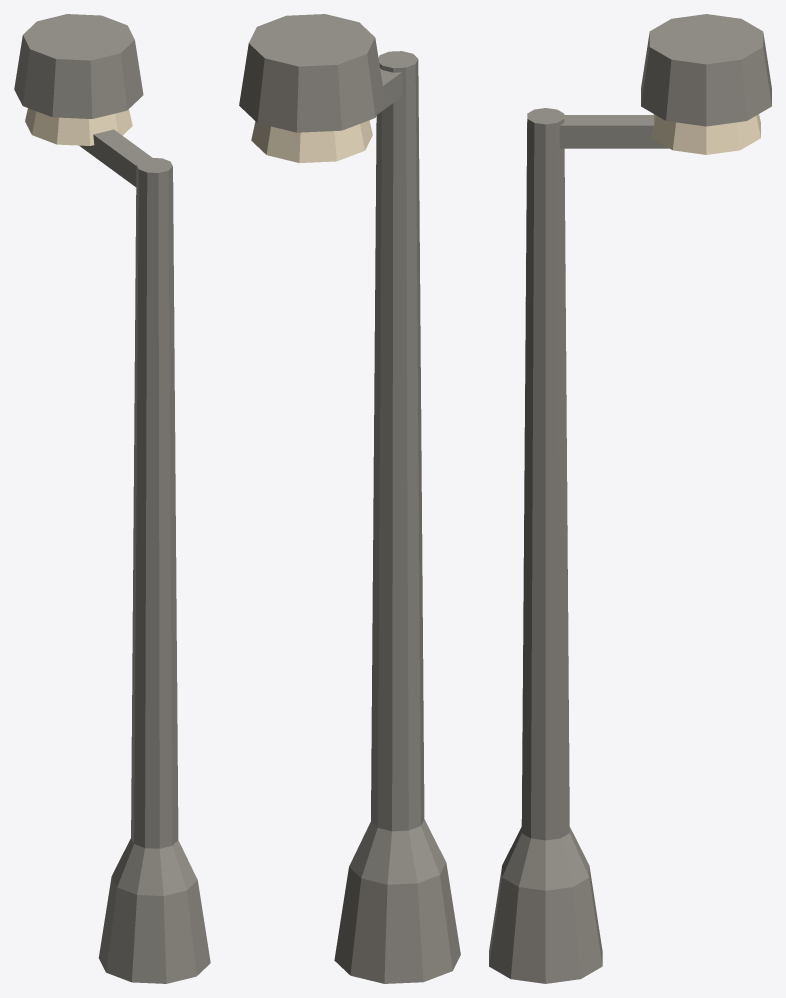
The model's file is lamp_post.fbx.
3 views of the same model, side by side, from view 1: azimuth 30°, elevation 25°; view 2: azimuth 150°, elevation 25°; view 3: azimuth 270°, elevation 25° (orthographic). The views are drawn at different scales.
Visible parts, largest first — view 1: SM_ENV_lamp_post; view 2: SM_ENV_lamp_post; view 3: SM_ENV_lamp_post.
Part boxes in pixels (bbox=[...]): SM_ENV_lamp_post: bbox=[14, 14, 210, 983]; SM_ENV_lamp_post: bbox=[239, 14, 460, 983]; SM_ENV_lamp_post: bbox=[489, 14, 771, 983].
Bounding box in the file's own units: 6000 × 44200 × 12326.
